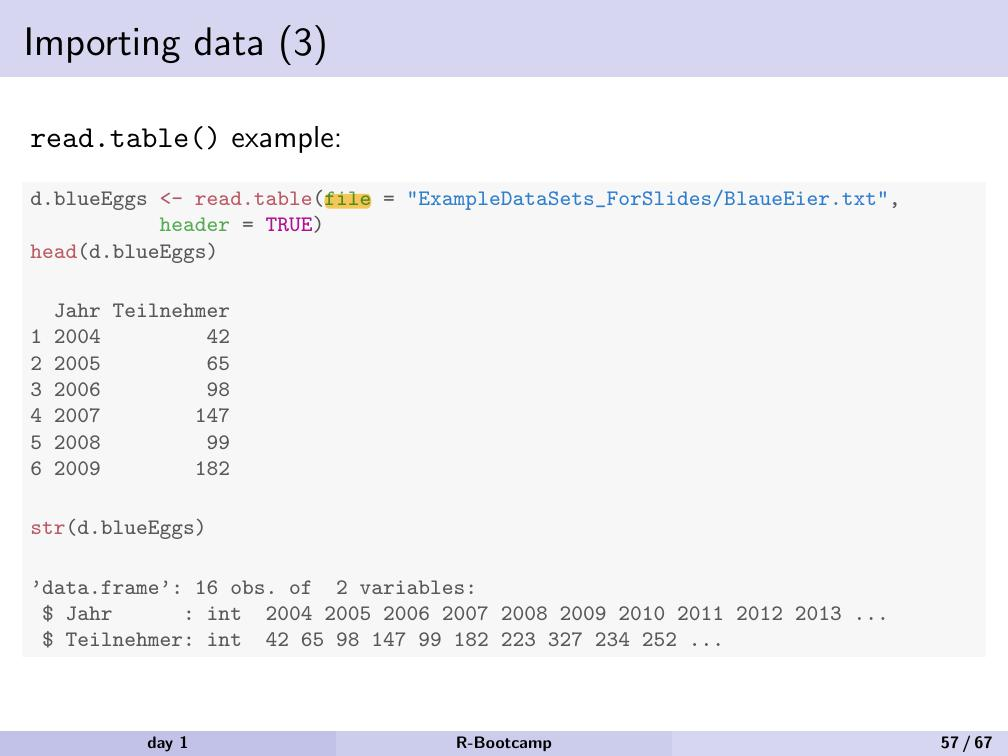Title: (15, 14, 334, 74)
